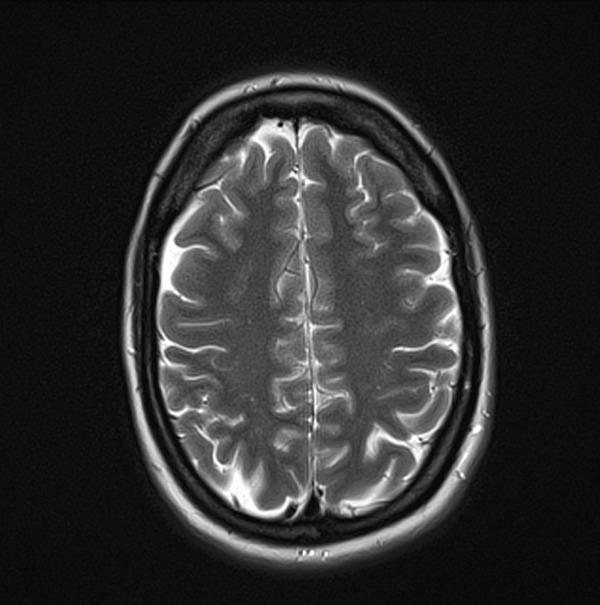Normal_Brain: (3, 6, 600, 605)
